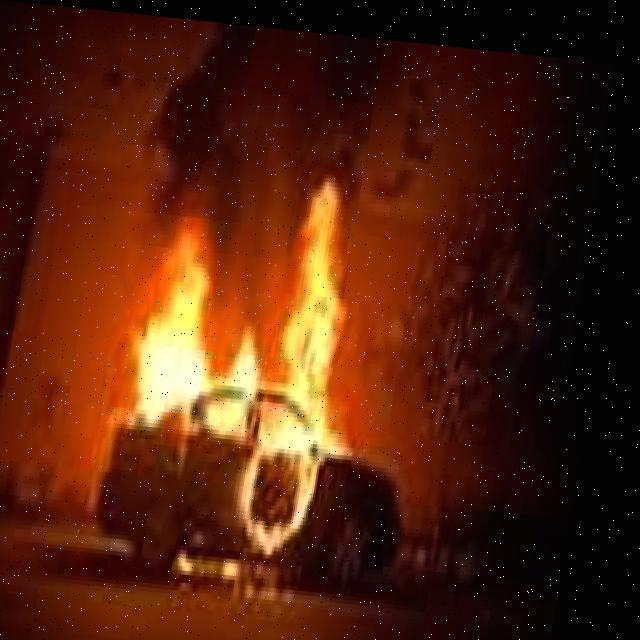Fire: (110, 152, 397, 568)
